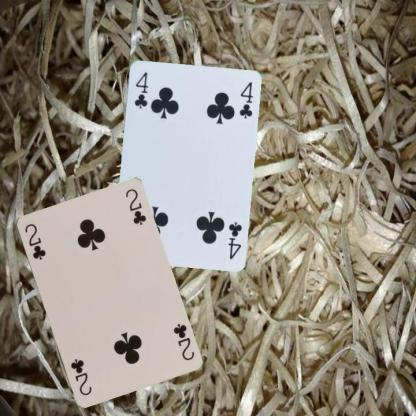2c: (170, 320, 196, 362), (21, 220, 47, 260)
4c: (226, 219, 244, 261), (132, 69, 150, 110)
